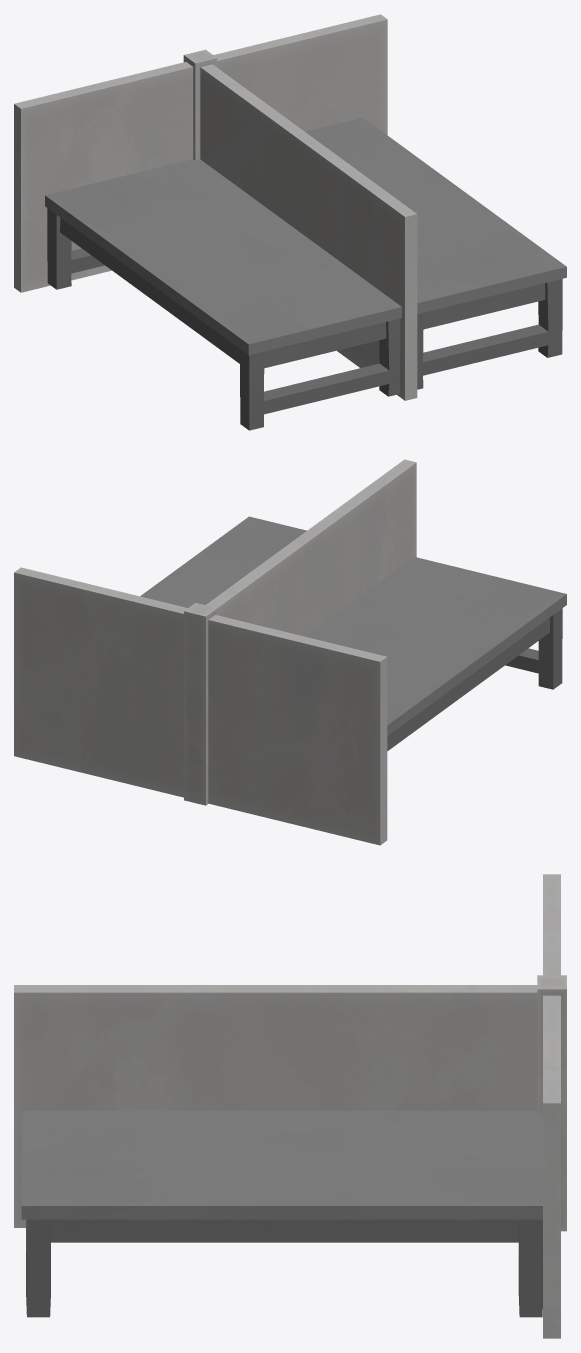
Rendered from Pfb_Table_04_JLAB.fbx.
The picture shows the model from 3 angles, top to bottom: view 1: azimuth 30°, elevation 25°; view 2: azimuth 150°, elevation 25°; view 3: azimuth 270°, elevation 25°; orthographic projection. The views are drawn at different scales.
Parts seen in each view (by area): view 1: Mat_Table_02_White_JLAB, Mat_CementMold_1, Mat_CementMold_1_Darker2; view 2: Mat_CementMold_1, Mat_Table_02_White_JLAB, Mat_CementMold_1_Darker2; view 3: Mat_CementMold_1, Mat_Table_02_White_JLAB, Mat_CementMold_1_Darker2.
Part boxes in pixels (box(x1,y1,x2,y2)): Mat_Table_02_White_JLAB: box(45, 117, 566, 430); Mat_CementMold_1: box(14, 14, 417, 400); Mat_CementMold_1_Darker2: box(183, 49, 217, 160); Mat_CementMold_1: box(14, 459, 416, 845); Mat_Table_02_White_JLAB: box(140, 516, 566, 751); Mat_CementMold_1_Darker2: box(184, 603, 217, 805); Mat_CementMold_1: box(14, 874, 560, 1338); Mat_Table_02_White_JLAB: box(21, 1110, 542, 1317); Mat_CementMold_1_Darker2: box(537, 975, 566, 1231).
Bounding box in the file's own units: 2.86 × 1.41 × 2.92.
Materials: 3 (3 with a texture image).
